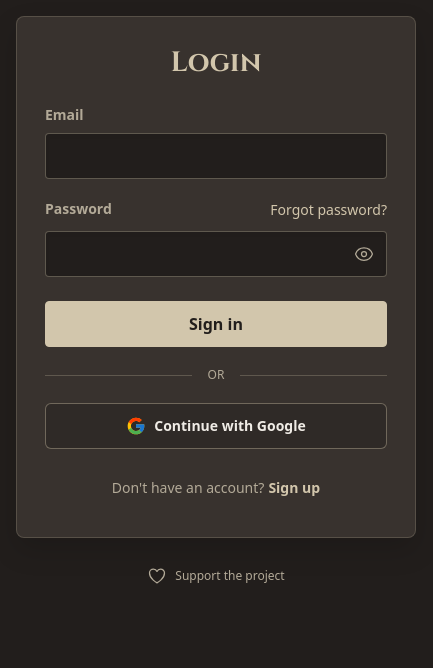
Test: shows a readable error for auth/invalid-credential and allows retry
In the field labelled "Email": (216, 156) x1=45 y1=133 x2=387 y2=179, type "player@example.com"
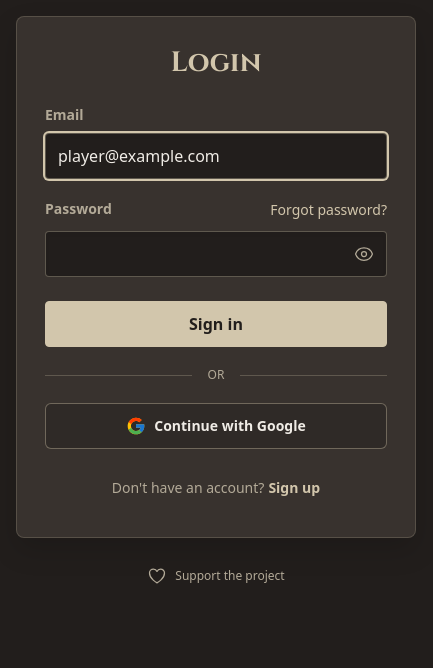
In the password field labelled "Password": (216, 254) x1=45 y1=231 x2=387 y2=277, type "correct horse battery staple"
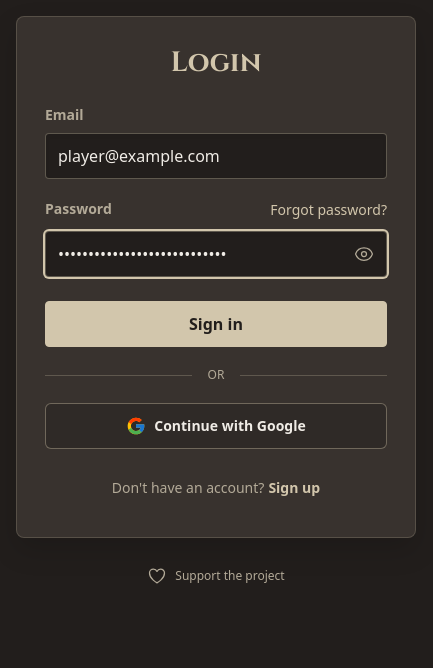
Click the button "Sign in": (216, 324) x1=45 y1=301 x2=387 y2=347
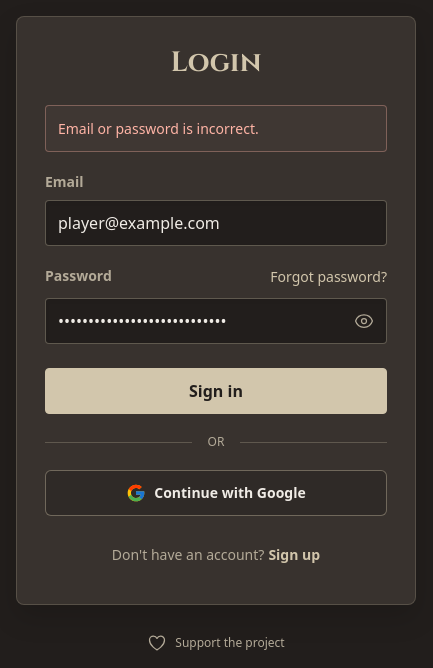
Check: the message reads "Email or password is incorrect.", box x1=58 y1=119 x2=259 y2=138
Click the button "Sign in": (216, 391) x1=45 y1=368 x2=387 y2=414
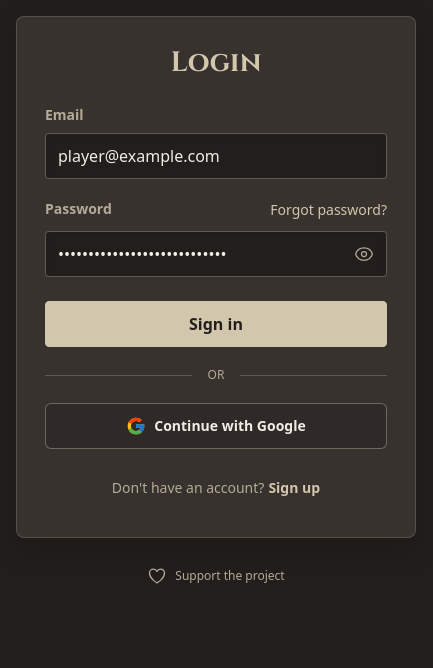
Check: the message "Email or password is incorrect." is gone
